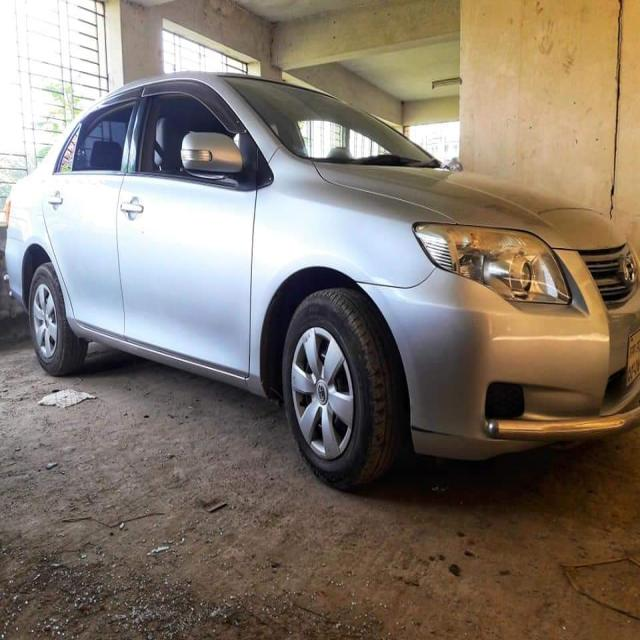silver: (2, 72, 640, 448)
